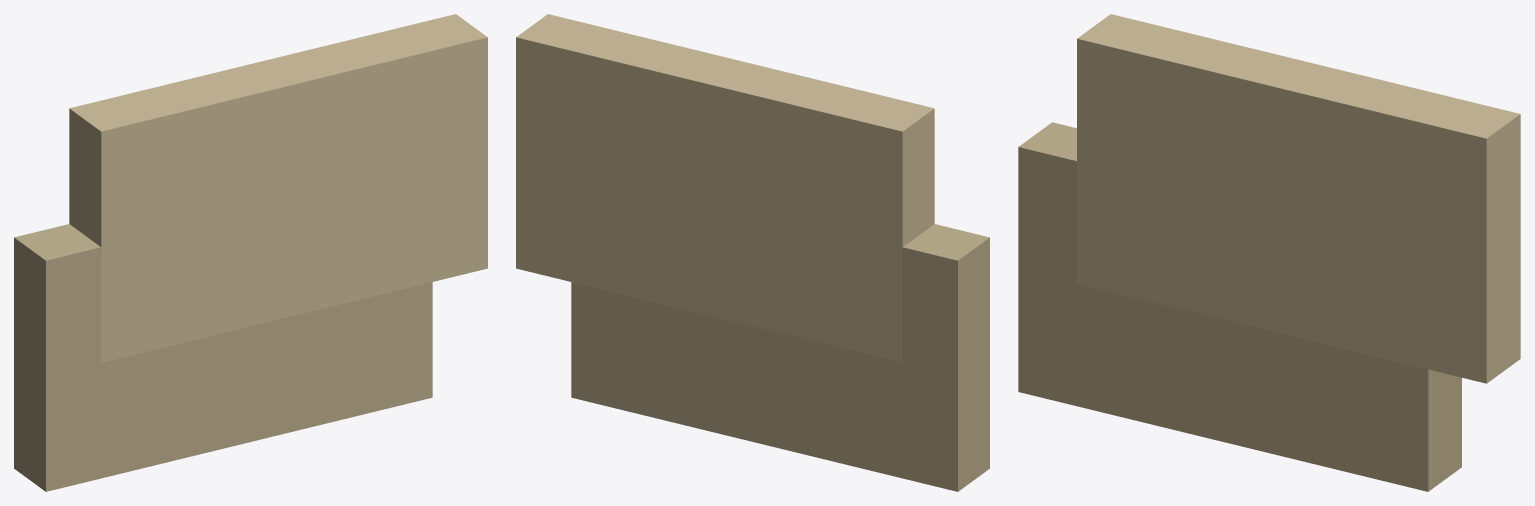
Rendered from boveda_piedra_arenisca_01.glb.
3 renders of one model, left to right at view 1: azimuth 30°, elevation 25°; view 2: azimuth 150°, elevation 25°; view 3: azimuth 330°, elevation 25°, orthographic. The views are drawn at different scales.
Visible parts, largest first — view 1: boveda_piedra_arenisca; view 2: boveda_piedra_arenisca; view 3: boveda_piedra_arenisca.
Boxes of the visible parts, box(x1,y1,x2,y2) form: boveda_piedra_arenisca: box(14, 14, 487, 491); boveda_piedra_arenisca: box(516, 14, 989, 491); boveda_piedra_arenisca: box(1018, 14, 1520, 491).
Size of the model in its own units: 0.7273 by 0.5455 by 0.0909.
